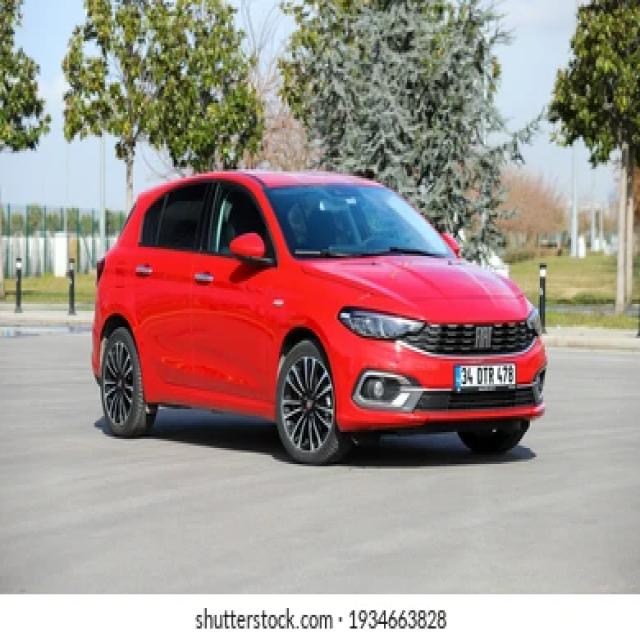fiat: (472, 317, 498, 354)
